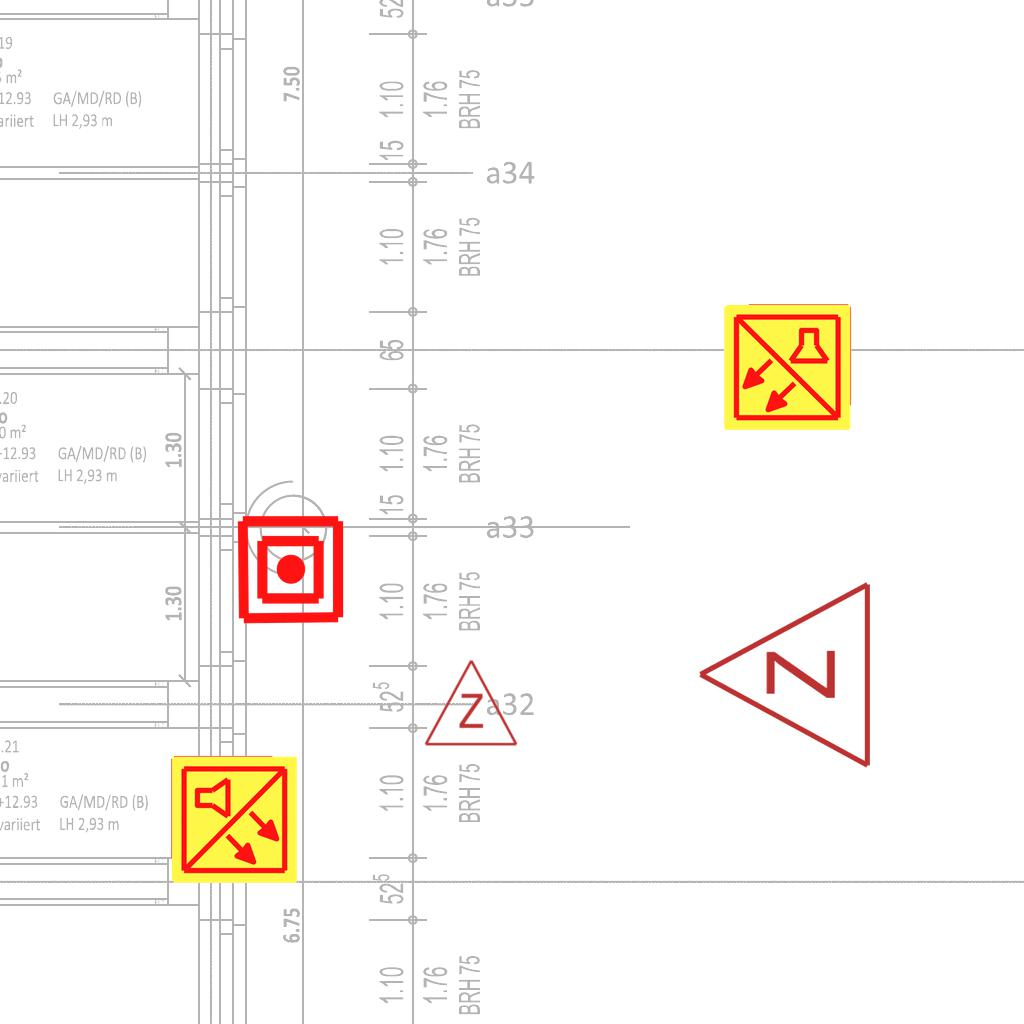NAM-Nichtautomatischer_Melder: (234, 513, 347, 626)
OKW_Multisensormelder_(Kombination_optischer_Rauch-Kahlenmonoxid_Waerme-Melder): (721, 301, 853, 433), (168, 754, 300, 886)
Zimmersignalleuchte: (685, 579, 885, 775), (421, 653, 519, 753)
